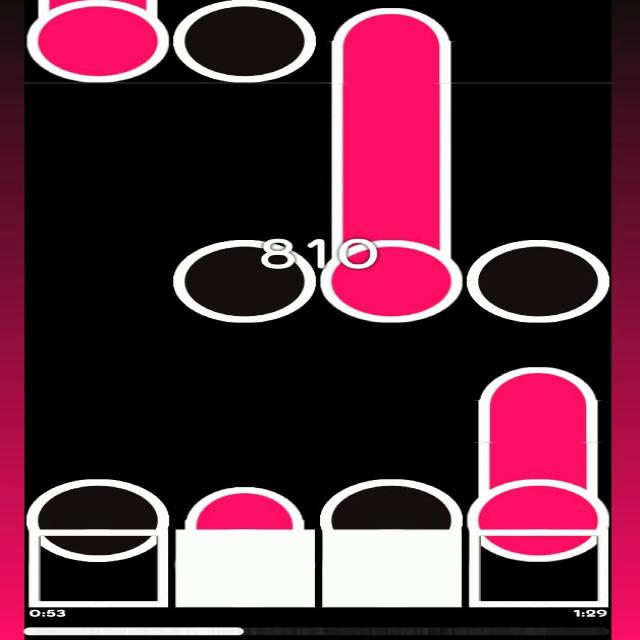end_hold: (472, 360, 604, 410), (182, 479, 309, 530), (329, 0, 451, 45)
note: (25, 478, 172, 560), (467, 240, 610, 324), (173, 0, 314, 82), (173, 240, 314, 322), (321, 480, 462, 529)
start_hold: (321, 224, 462, 324), (468, 469, 608, 560), (26, 0, 167, 84)
